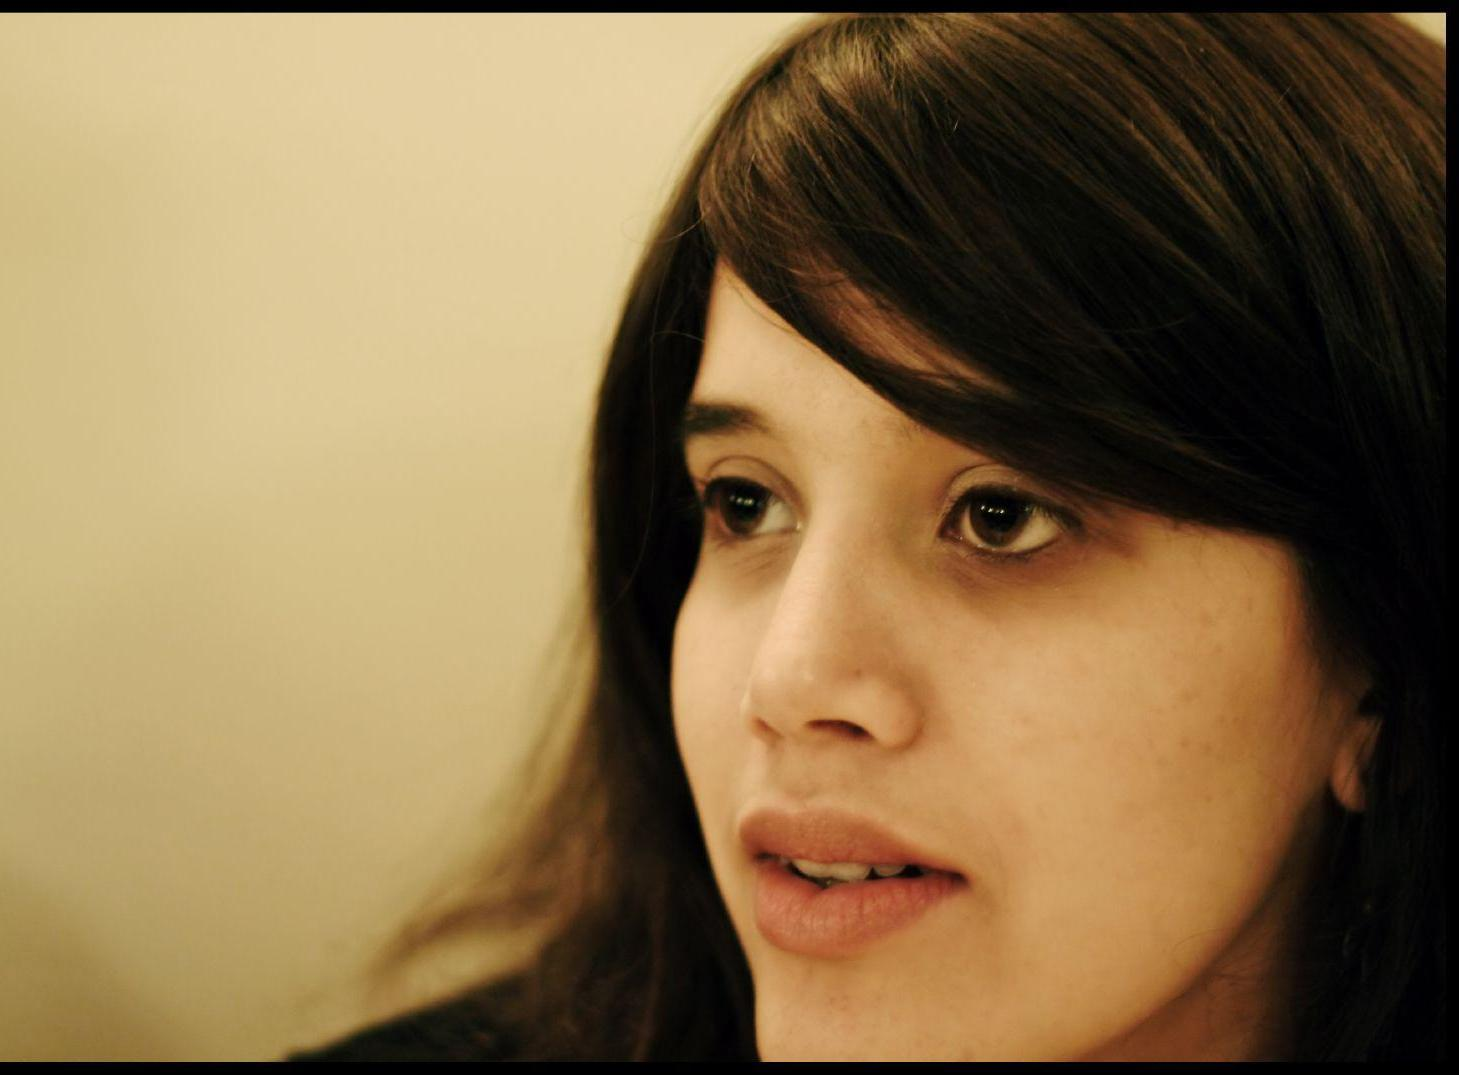Eyebags: (932, 539, 1083, 618), (696, 538, 799, 598)
